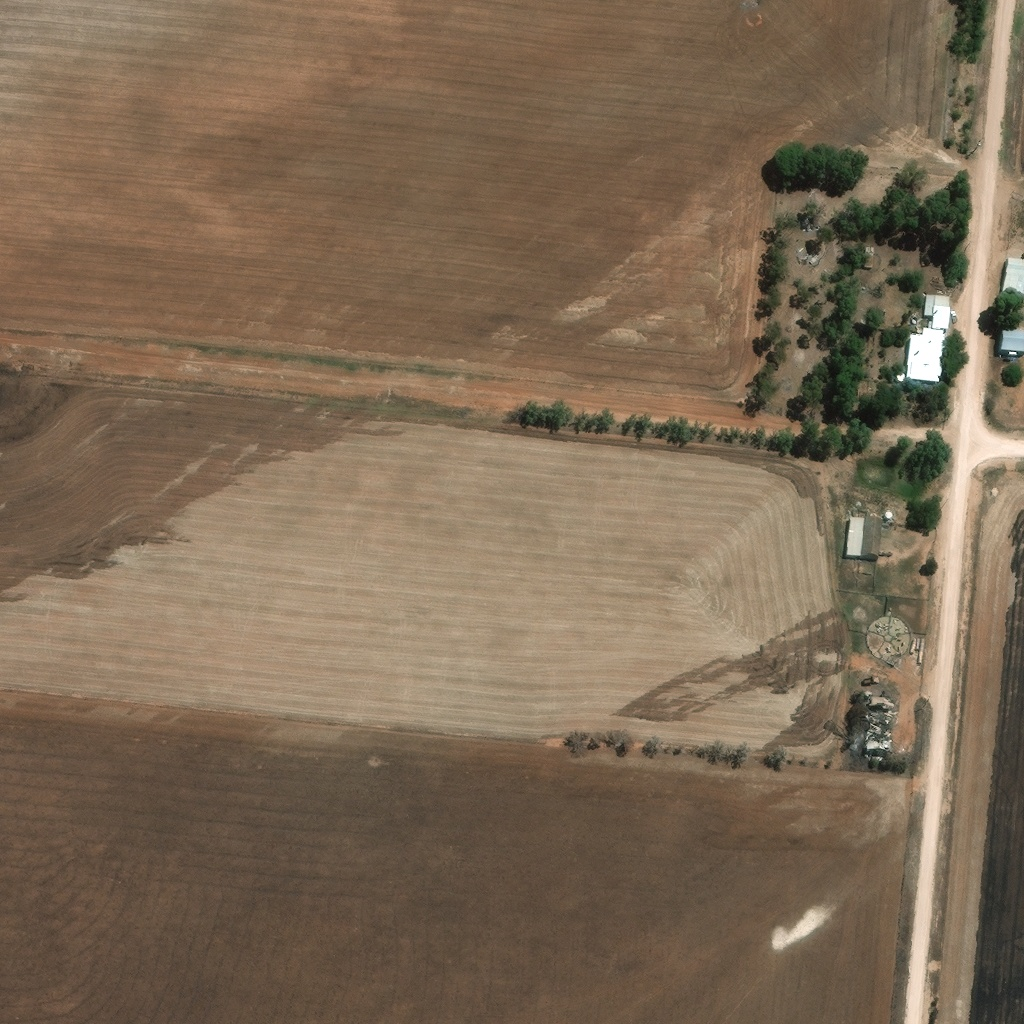0 no-damage: (906, 289, 951, 379), (844, 513, 883, 556), (1002, 253, 1023, 291), (1000, 323, 1023, 353), (864, 240, 878, 262), (897, 366, 907, 375), (884, 508, 893, 516), (917, 323, 923, 330), (917, 316, 923, 323)
3 destroyed: (866, 695, 895, 754)
